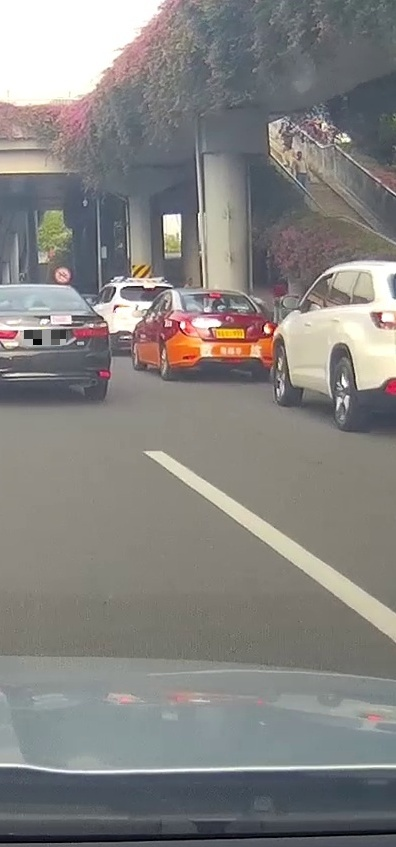L_light: (179, 320, 214, 340), (0, 329, 19, 340)
R_light: (246, 319, 276, 340), (71, 321, 109, 337)
T_light: (28, 306, 50, 312), (210, 293, 221, 297)
day-brake: (175, 288, 277, 381)
day-no: (0, 284, 111, 400)
plate_1: (24, 330, 66, 345)
